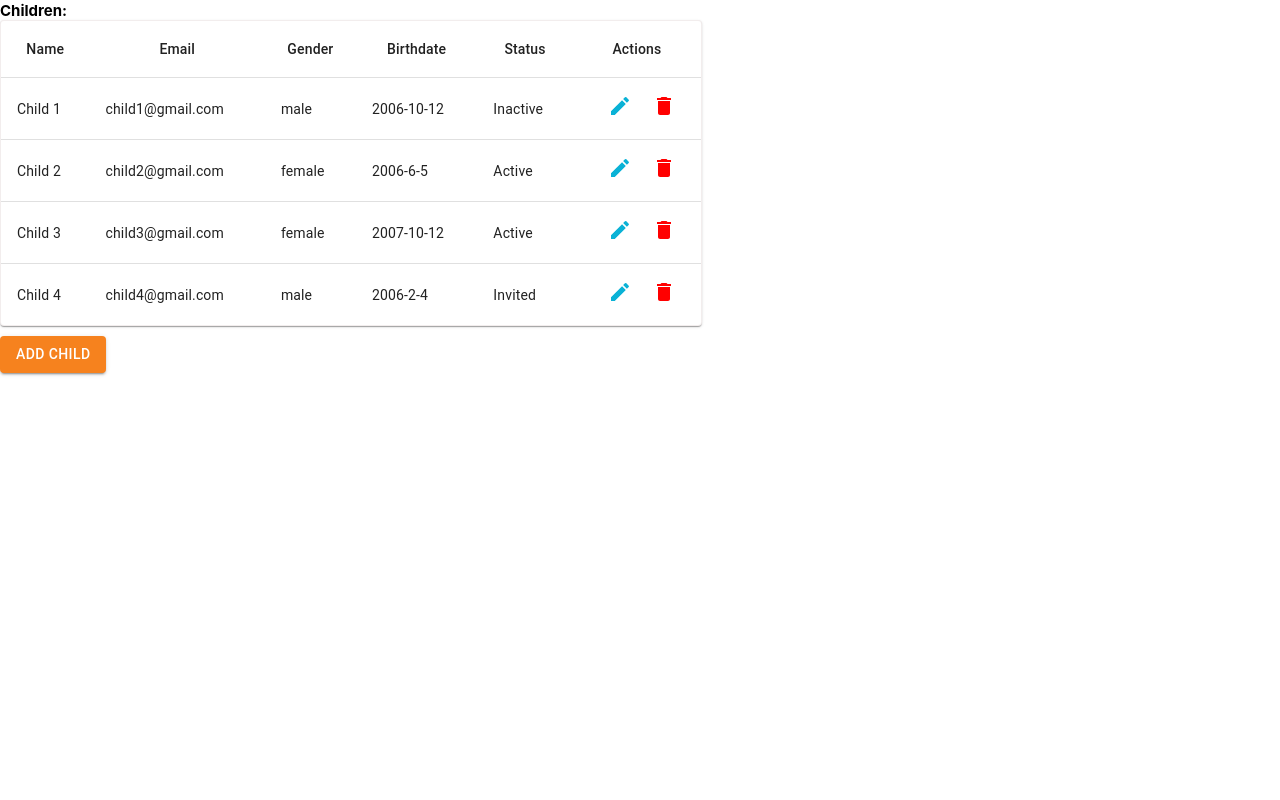
Test: Render guardian profile › Close icon is closing the modal
This screenshot has width=1280, height=800.
What coordinates should you click on to do the following:
click the icon with test id "edit_icon1"
I would click on:
 (620, 168)
Its box is [608, 156, 632, 180].
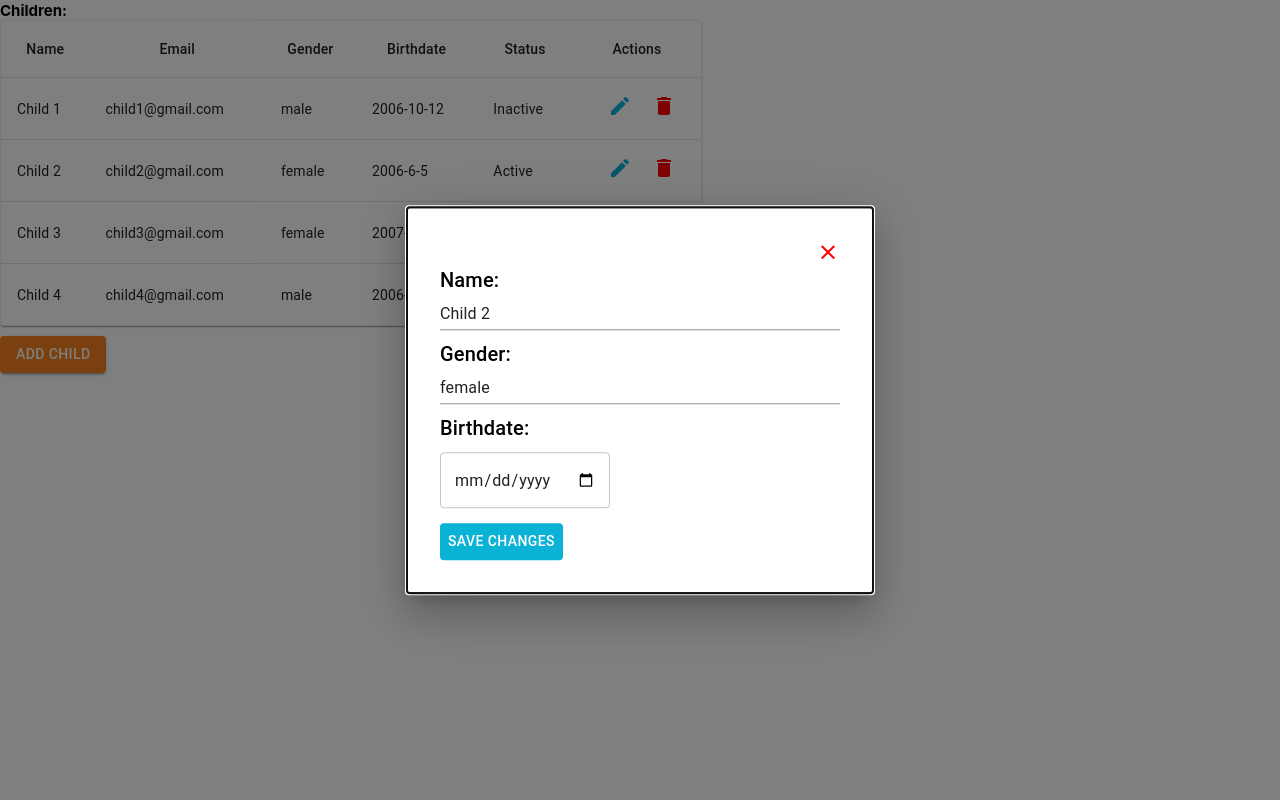
What coordinates should you click on to do the following:
click the icon with test id "close_icon"
I would click on:
 (828, 252)
Its box is [816, 240, 840, 264].
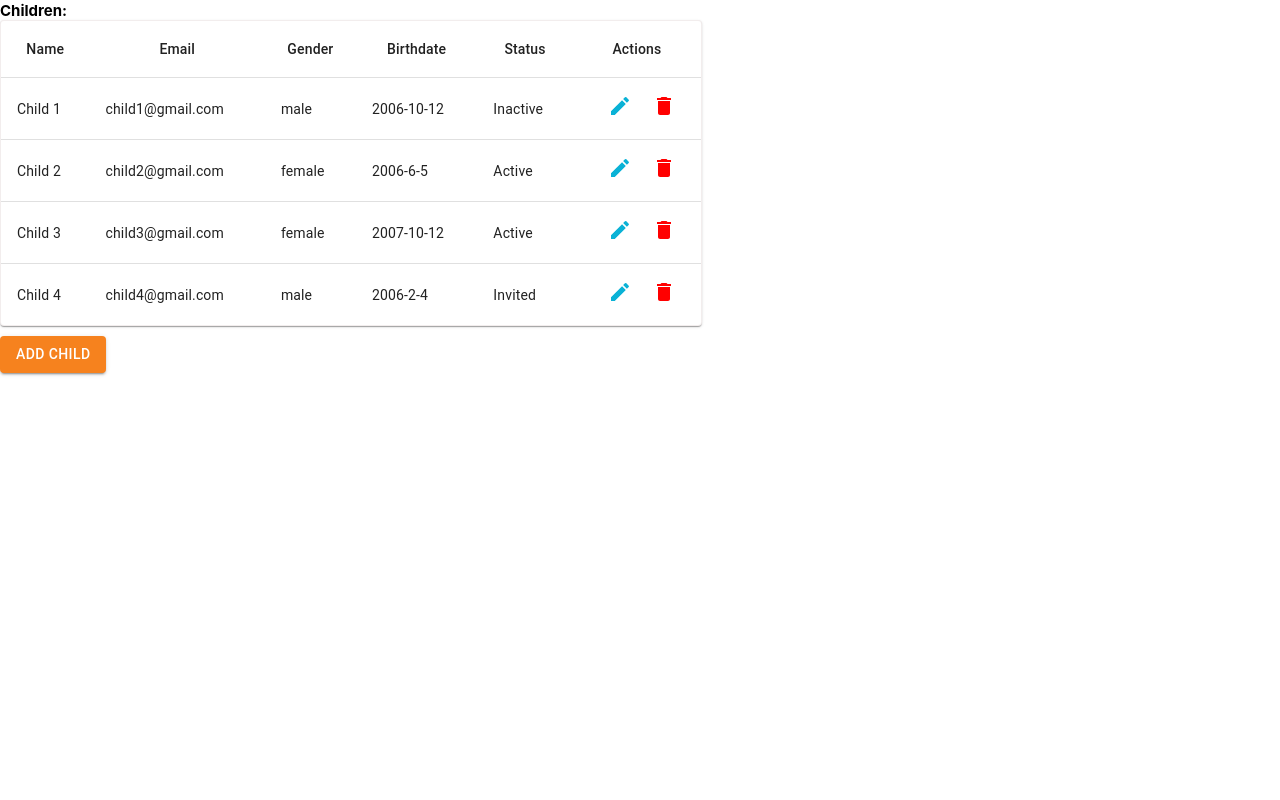
Now the button "Save Changes" is gone
